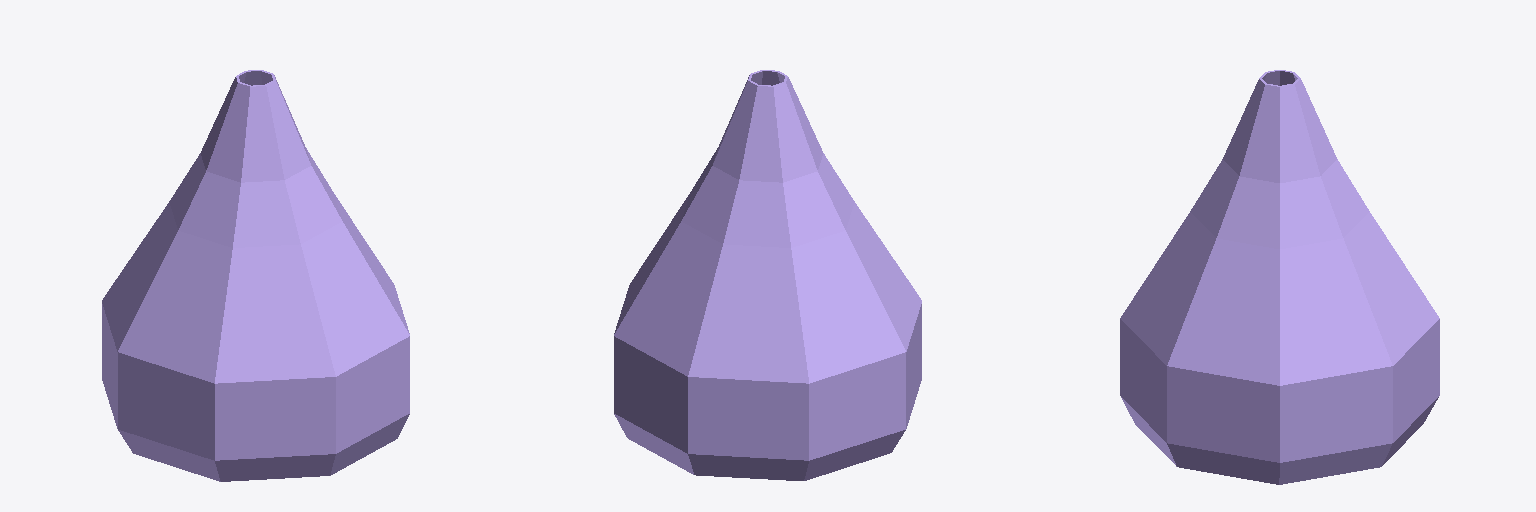
The model's file is Potion.obj.
The picture shows the model from 3 angles: view 1: azimuth 30°, elevation 25°; view 2: azimuth 150°, elevation 25°; view 3: azimuth 270°, elevation 25°; orthographic projection.
Visible parts, largest first — view 1: Cylinder; view 2: Cylinder; view 3: Cylinder.
Boxes of the visible parts, x1=… form: Cylinder: x1=102, y1=70, x2=409, y2=481; Cylinder: x1=614, y1=70, x2=921, y2=480; Cylinder: x1=1120, y1=70, x2=1439, y2=484.
Size of the model in its own units: 0.342 by 0.4195 by 0.342.